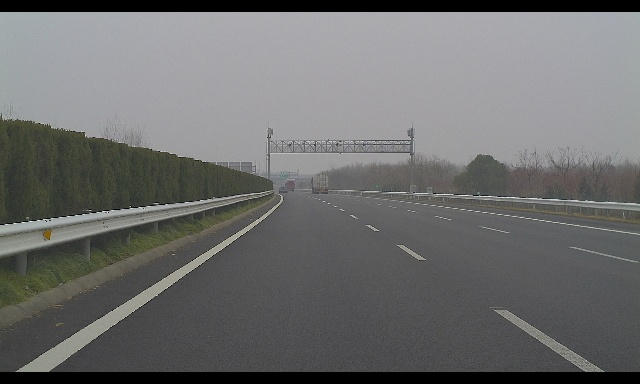car: (279, 186, 288, 194)
truck: (311, 173, 329, 194), (285, 179, 295, 192)
